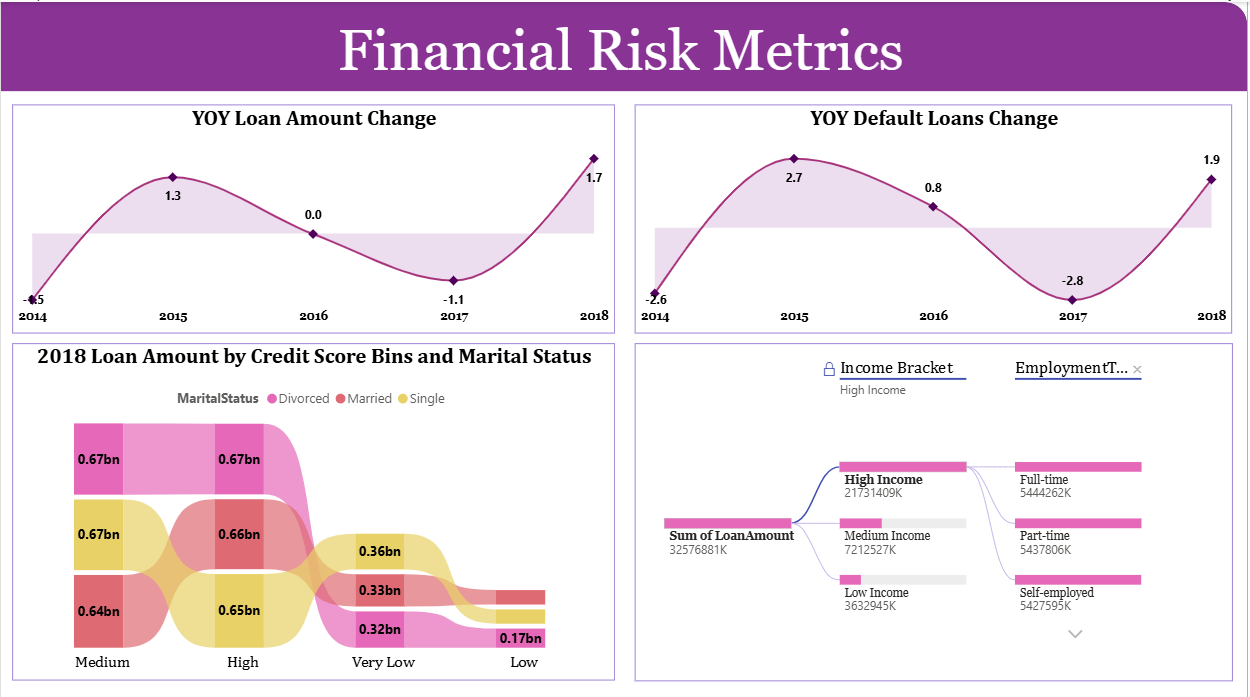

The page's visual inventory and layout, read from the dashboard file:
{"tool":"powerbi","page":{"name":"Financial Risk Metrics","canvas":[1280,720],"ordinal":2},"visuals":[{"type":"shape","box":[0,0,1280.3,91.9],"z":0},{"type":"lineChart","title":"YOY Loan Amount Change","fields":{"Category":["Loan_default.Year"],"Y":["Measures Table3.YOY Loan amount change"]},"box":[11.6,105.3,618.9,235],"z":1},{"type":"lineChart","title":"YOY Default Loans Change","fields":{"Category":["Loan_default.Year"],"Y":["Measures Table3.YOY default loans change"]},"box":[651,105.3,613.8,235],"z":2},{"type":"ribbonChart","title":"2018 Loan Amount by Credit Score Bins and Marital Status","fields":{"Category":["Loan_default.Credit score bins"],"Series":["Loan_default.MaritalStatus"],"Y":["Measures Table3.YTD loan Amount"]},"box":[11.6,350.6,618.9,346.7],"z":3},{"type":"decompositionTreeVisual","fields":{"Analyze":["Sum(Loan_default.LoanAmount)"],"ExplainBy":["Loan_default.Income Bracket","Loan_default.EmploymentType"]},"box":[651,350.6,614,347],"z":4}]}

Visuals, with their boxes in screenshot pixels (x1, y1, x2, y2), scaled from the page's 1280x720 canvas onto the 1250x697 screenshot:
shape: box(0, 0, 1249, 89)
"YOY Loan Amount Change" lineChart: box(11, 102, 616, 329)
"YOY Default Loans Change" lineChart: box(636, 102, 1235, 329)
"2018 Loan Amount by Credit Score Bins and Marital Status" ribbonChart: box(11, 339, 616, 675)
decompositionTreeVisual - Sum(Loan_default.LoanAmount) x Loan_default.Income Bracket: box(636, 339, 1235, 675)
